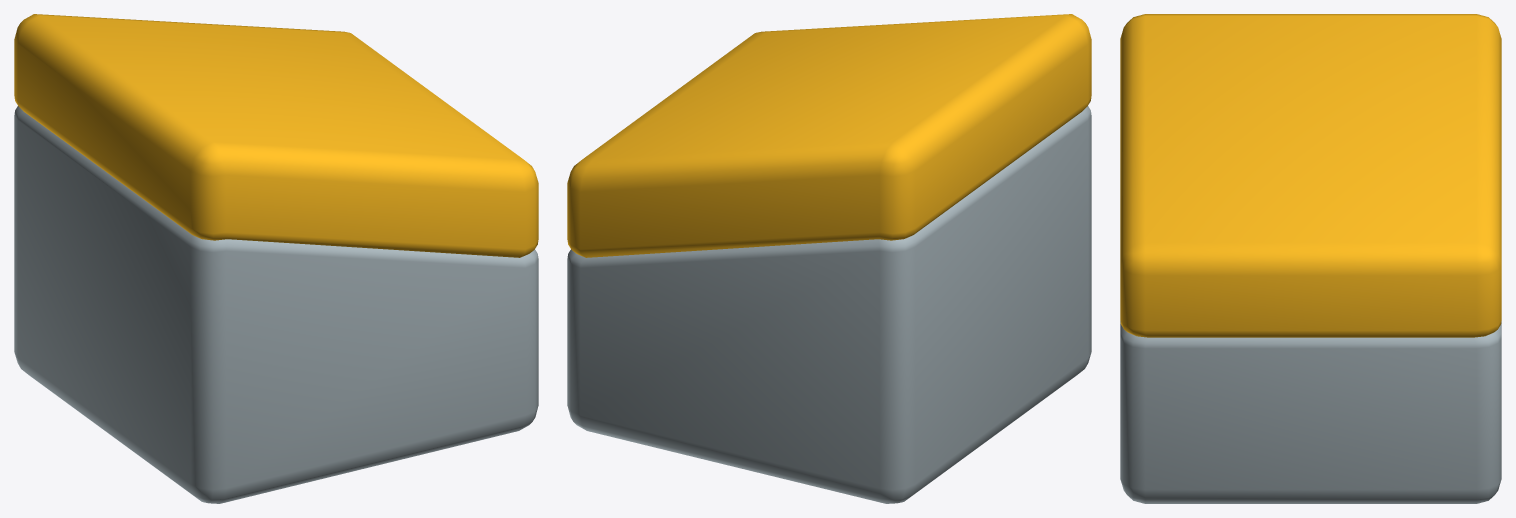
The model's file is tileSlopeMediumHigh_teamYellow.glb.
3 renders of one model, left to right at view 1: azimuth 30°, elevation 25°; view 2: azimuth 150°, elevation 25°; view 3: azimuth 270°, elevation 25°, orthographic. The views are drawn at different scales.
Visible parts, largest first — view 1: tileSlopeMediumHigh_teamYellow; view 2: tileSlopeMediumHigh_teamYellow; view 3: tileSlopeMediumHigh_teamYellow.
Part boxes in pixels (x1=…): tileSlopeMediumHigh_teamYellow: x1=14, y1=14, x2=538, y2=503; tileSlopeMediumHigh_teamYellow: x1=567, y1=14, x2=1091, y2=503; tileSlopeMediumHigh_teamYellow: x1=1120, y1=14, x2=1501, y2=503.
Size of the model in its own units: 0.6 by 0.6 by 0.6.
